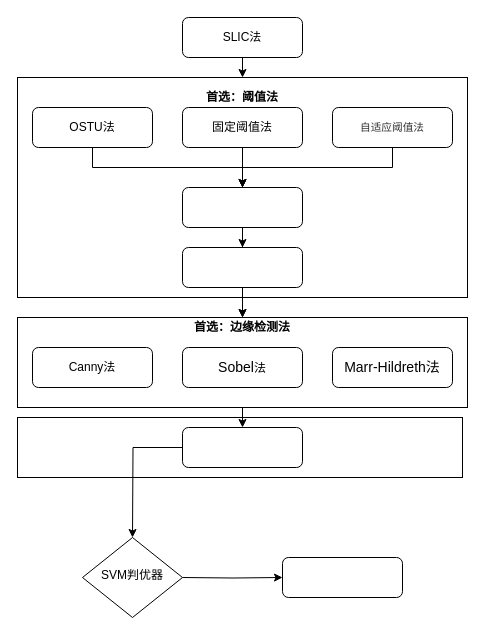
The diagram is 485 pixels wide and 635 high, and some of its shapes have lost their labels. Here are the shapes that lost their labels. From the top down, the box of each, then its label:
(182, 186, 302, 228): 二值化
(182, 246, 302, 288): 形态学闭操作
(182, 426, 302, 468): Meanshift法
(282, 556, 402, 598): 记录判优结果
